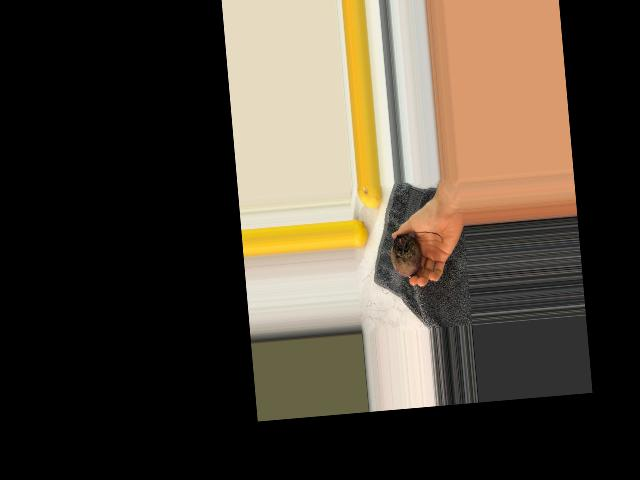beet: (389, 231, 445, 278)
